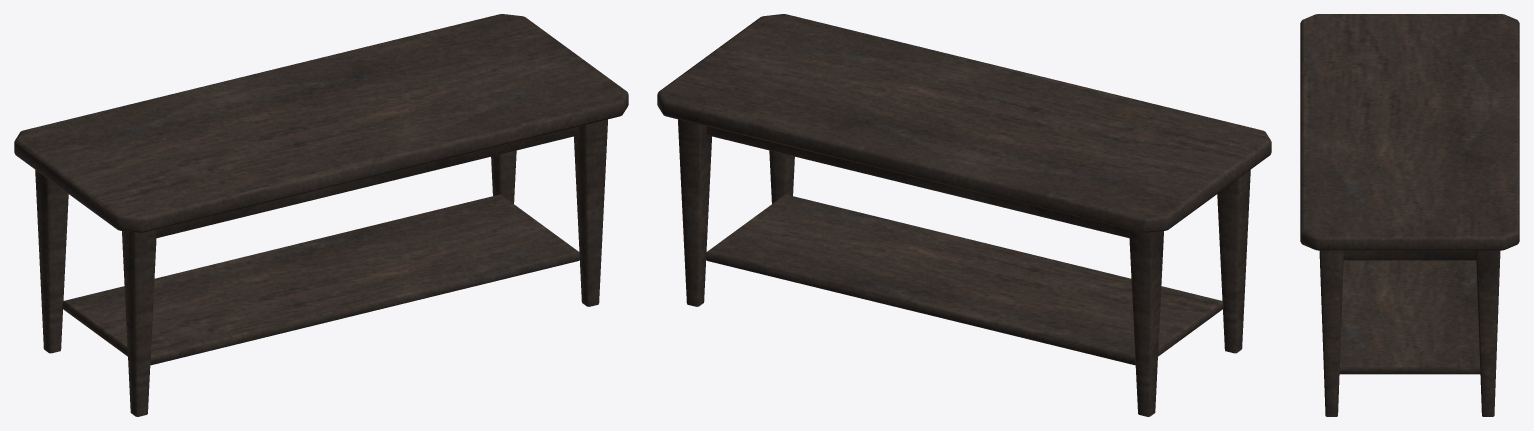
Rendered from table_small_1.obj.
The picture shows the model from 3 angles, left to right: view 1: azimuth 30°, elevation 25°; view 2: azimuth 150°, elevation 25°; view 3: azimuth 270°, elevation 25°; orthographic projection. The views are drawn at different scales.
Visible parts, largest first — view 1: table_small_1; view 2: table_small_1; view 3: table_small_1.
Part boxes in pixels (x1,y1,x2,y2): table_small_1: (14, 14, 628, 416); table_small_1: (657, 14, 1271, 416); table_small_1: (1300, 14, 1519, 416).
Size of the model in its own units: 1.7 by 0.67 by 0.7.
